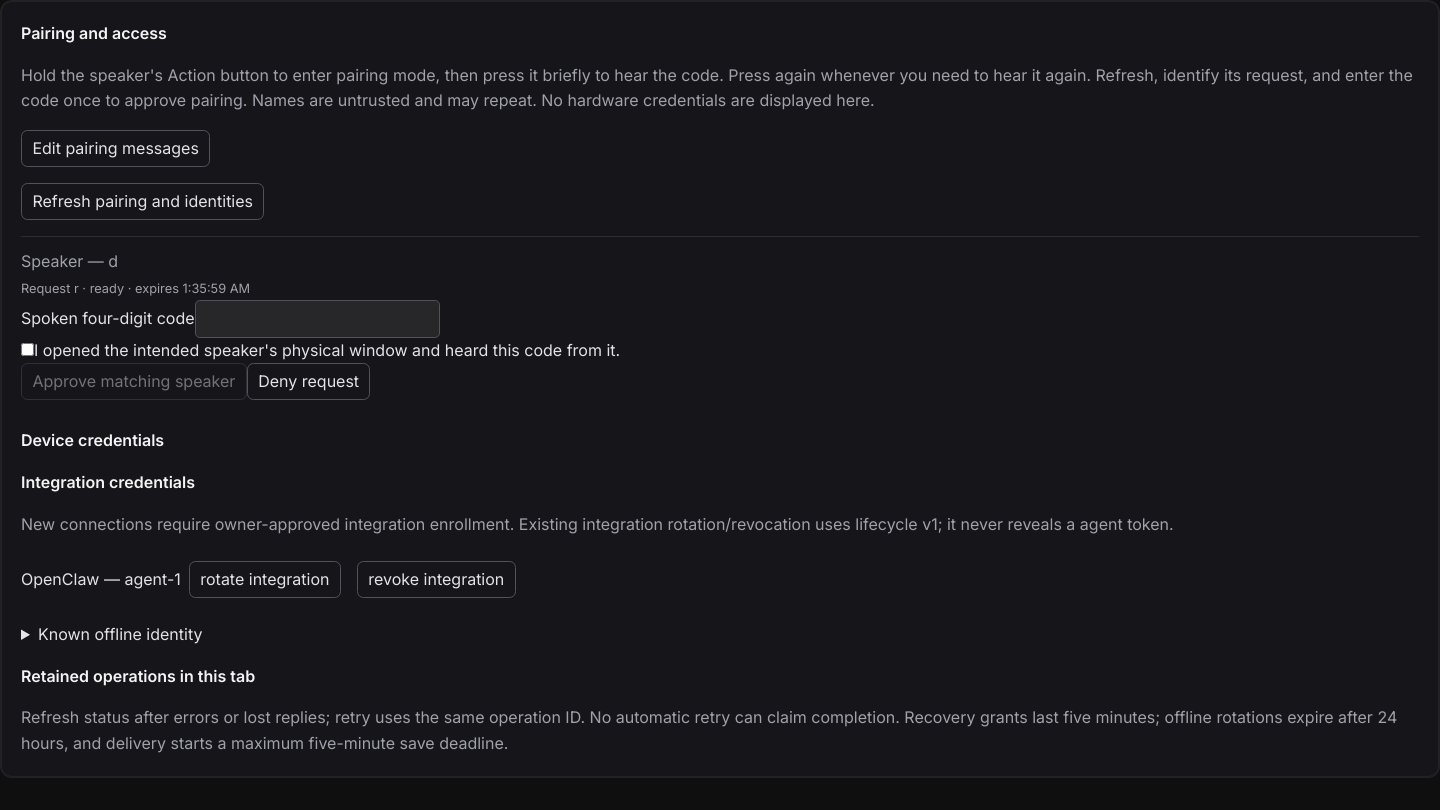
it: does not approve after initiation fails or retain the entered code
The image size is (1440, 810).
Type "0012" into the field labelled "Spoken four-digit code" at (317, 319), box [195,300,440,338]
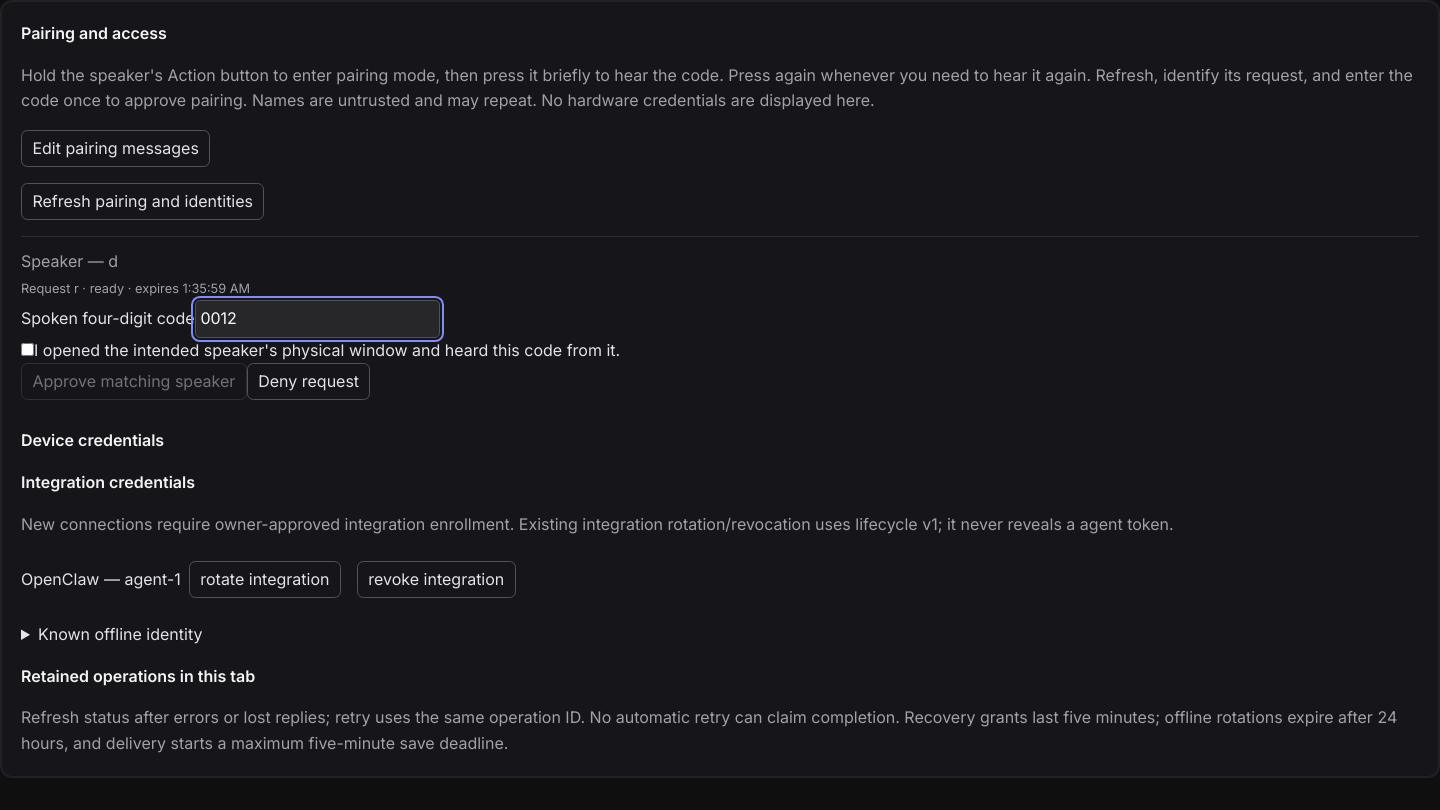
Click the checkbox at (28, 349), box [21,342,34,356]
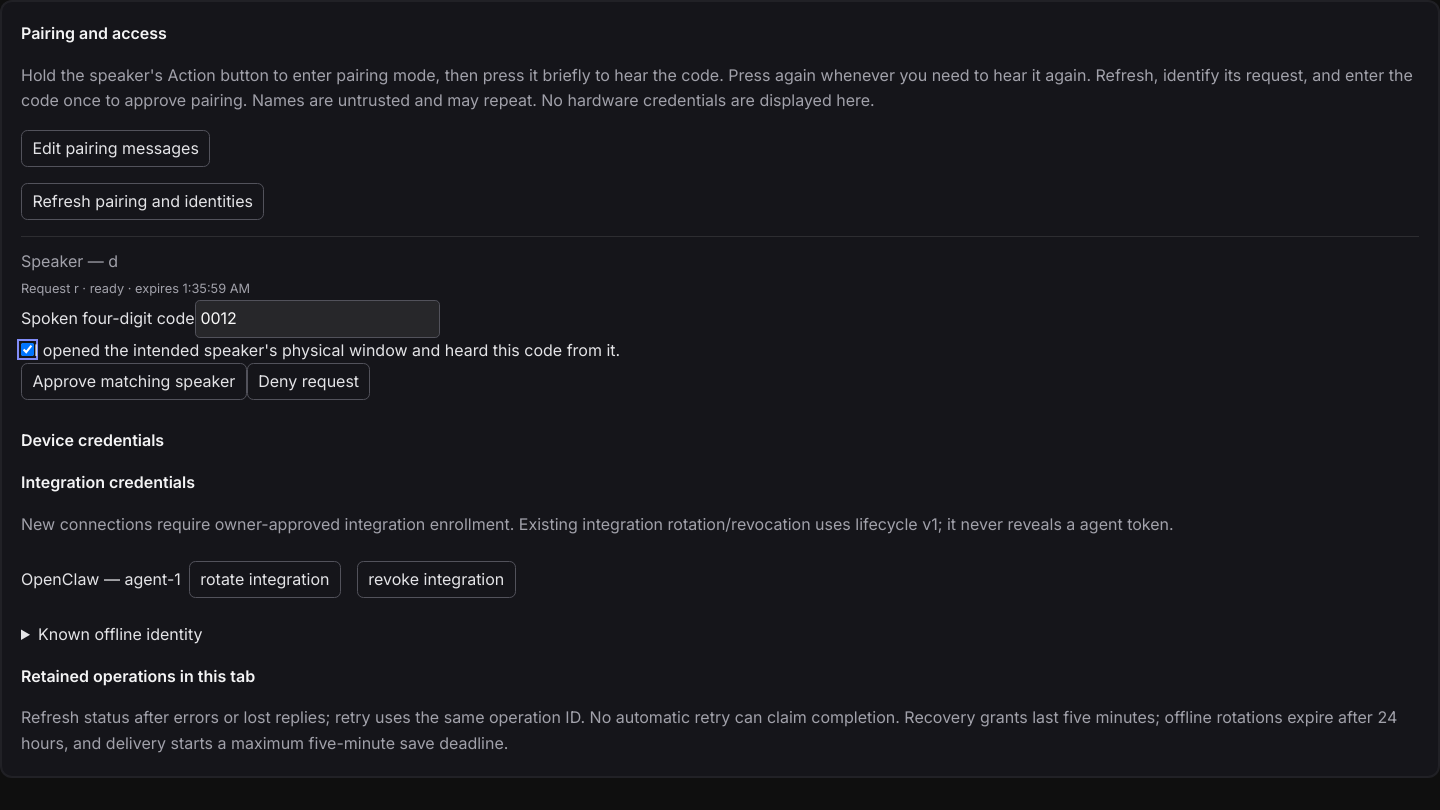
Click the button "Approve matching speaker" at (134, 382), box [21,363,247,400]
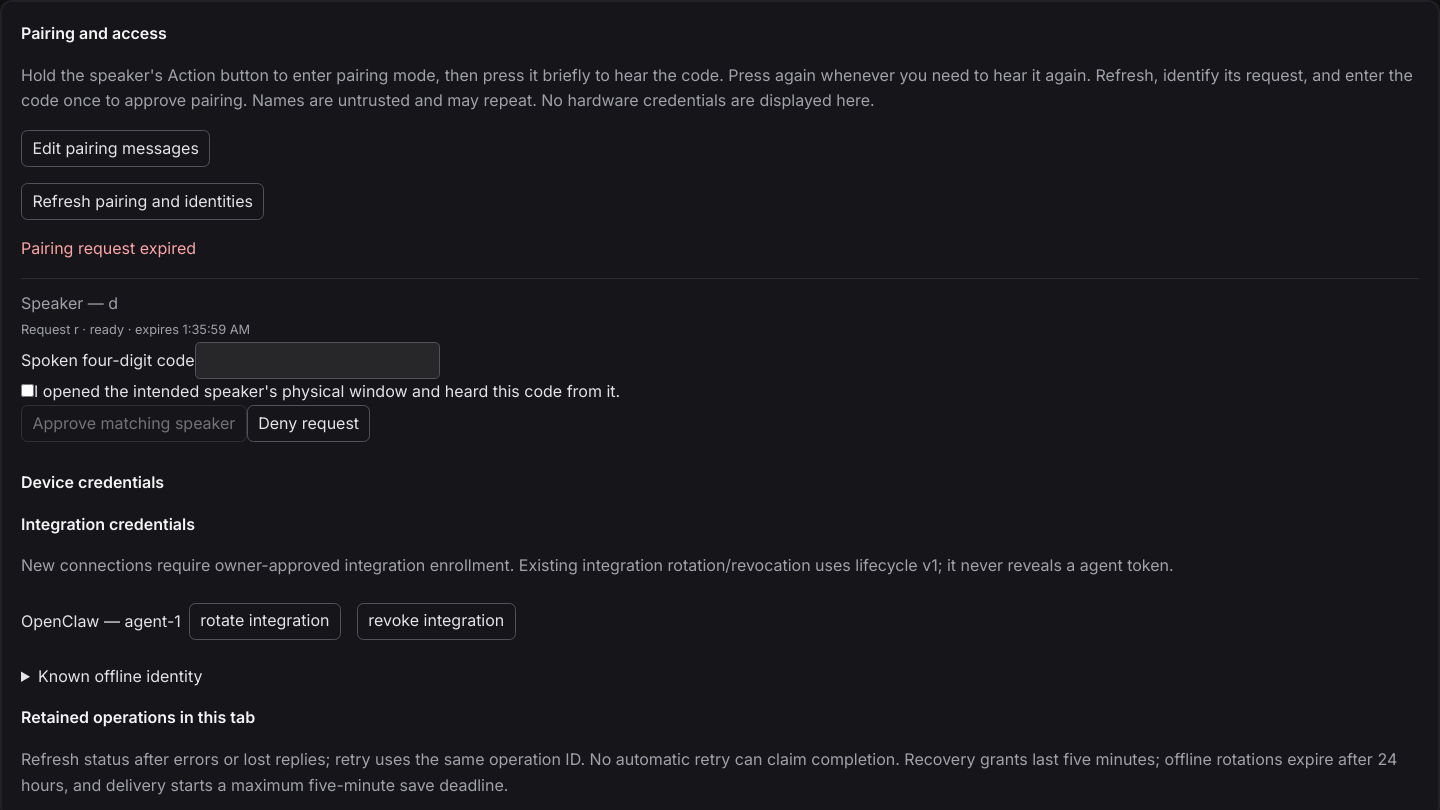
Check: the text "Pairing request expired" is shown, box [21,238,196,258]
Check: the field labelled "Spoken four-digit code" is empty, box [195,342,440,379]
